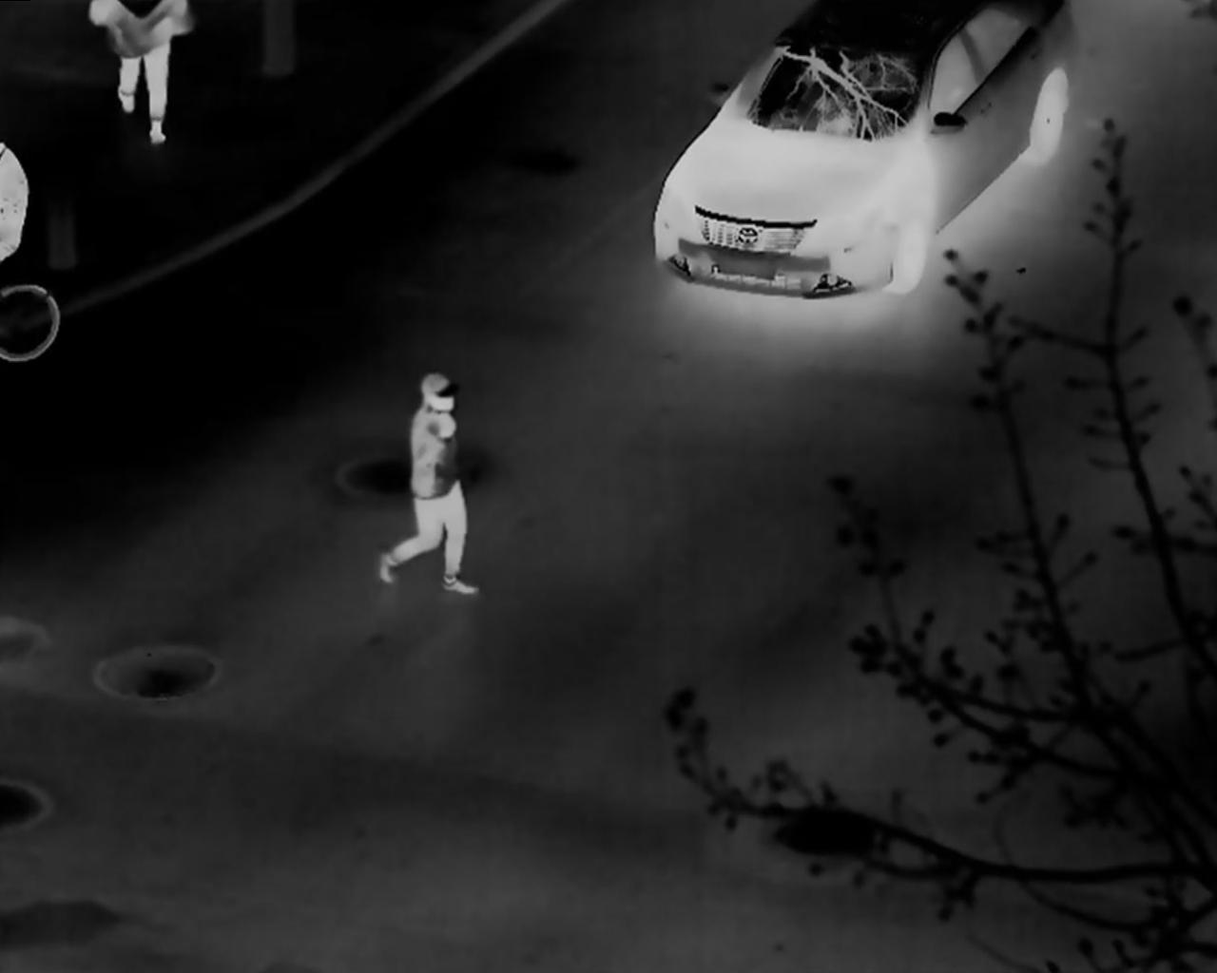person: (375, 372, 479, 597)
